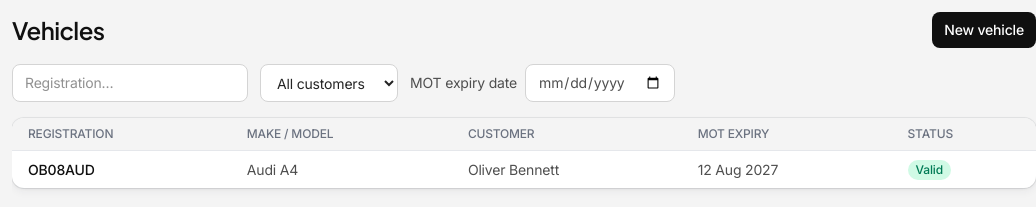
Test case: VehiclesList — filtering › reports no results for a filter that matches nothing
Expected: the table is shown, [12, 118, 1035, 188]
Type "ZZ99ZZZ" into the search field with placeholder "Registration…" at (130, 83), box [12, 64, 248, 102]
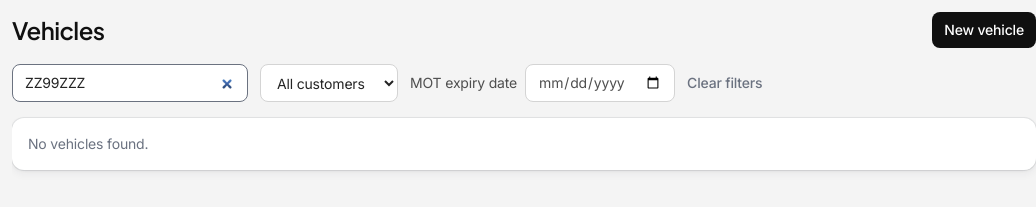
Expected: the text "No vehicles found." is shown, [28, 135, 148, 152]
